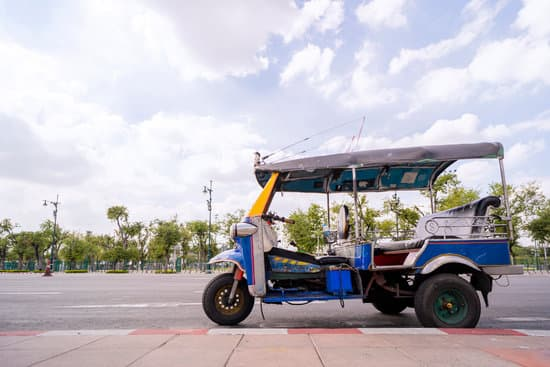threewheel: (201, 141, 522, 329)
